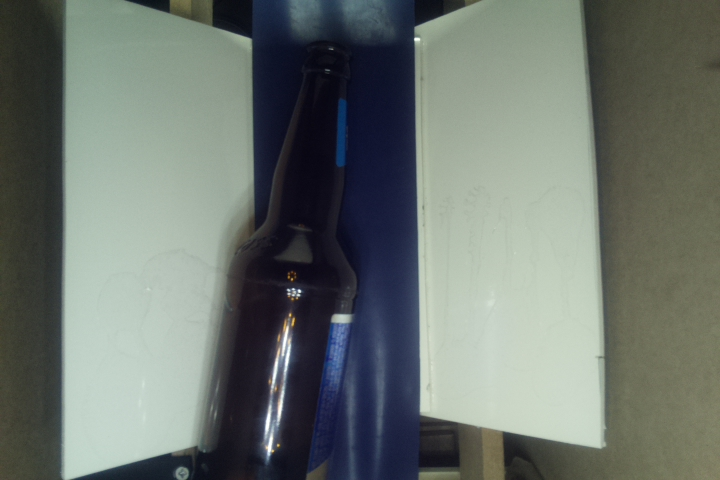makju: (193, 44, 368, 480)
